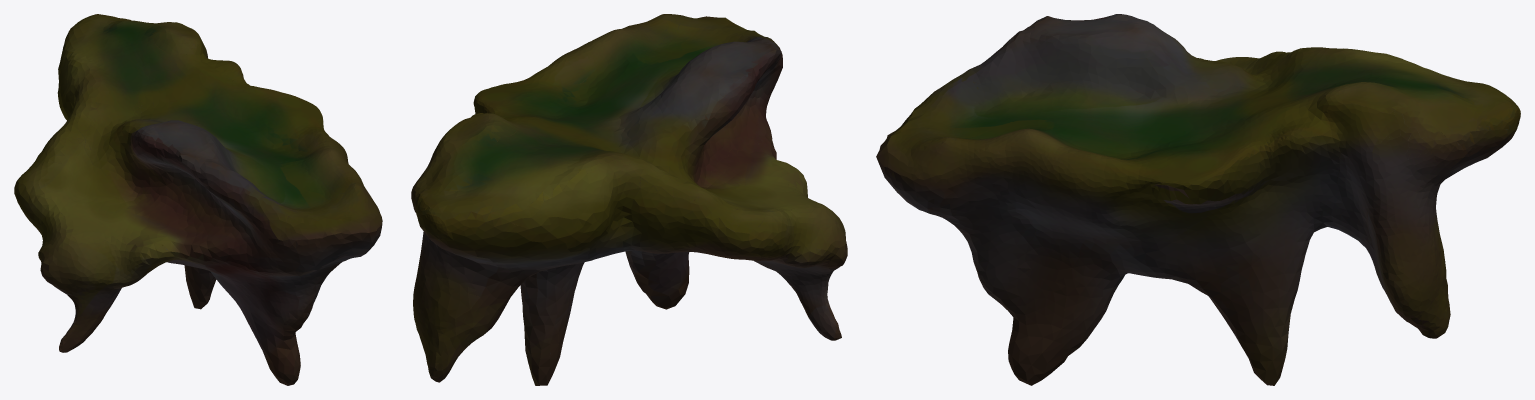
Rendered from MidIsland2.fbx.
3 renders of one model, left to right at view 1: azimuth 30°, elevation 25°; view 2: azimuth 150°, elevation 25°; view 3: azimuth 270°, elevation 25°, orthographic. The views are drawn at different scales.
Visible parts, largest first — view 1: Icosphere.001; view 2: Icosphere.001; view 3: Icosphere.001.
Boxes of the visible parts, <box> form: Icosphere.001: <box>14,14,382,385</box>; Icosphere.001: <box>411,14,847,385</box>; Icosphere.001: <box>876,14,1520,385</box>.
Size of the model in its own units: 26077 by 21334 by 40225.
